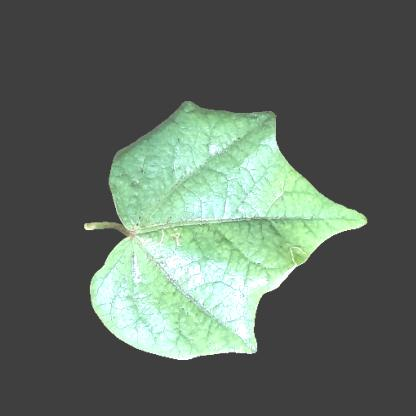healthy: (137, 144, 266, 262), (124, 263, 194, 351), (196, 264, 264, 342), (270, 186, 321, 250)
